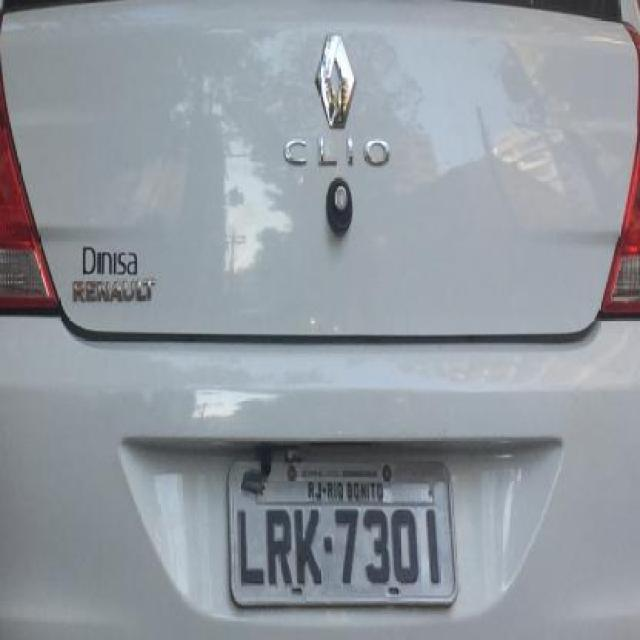old_plate: (219, 443, 468, 615)
